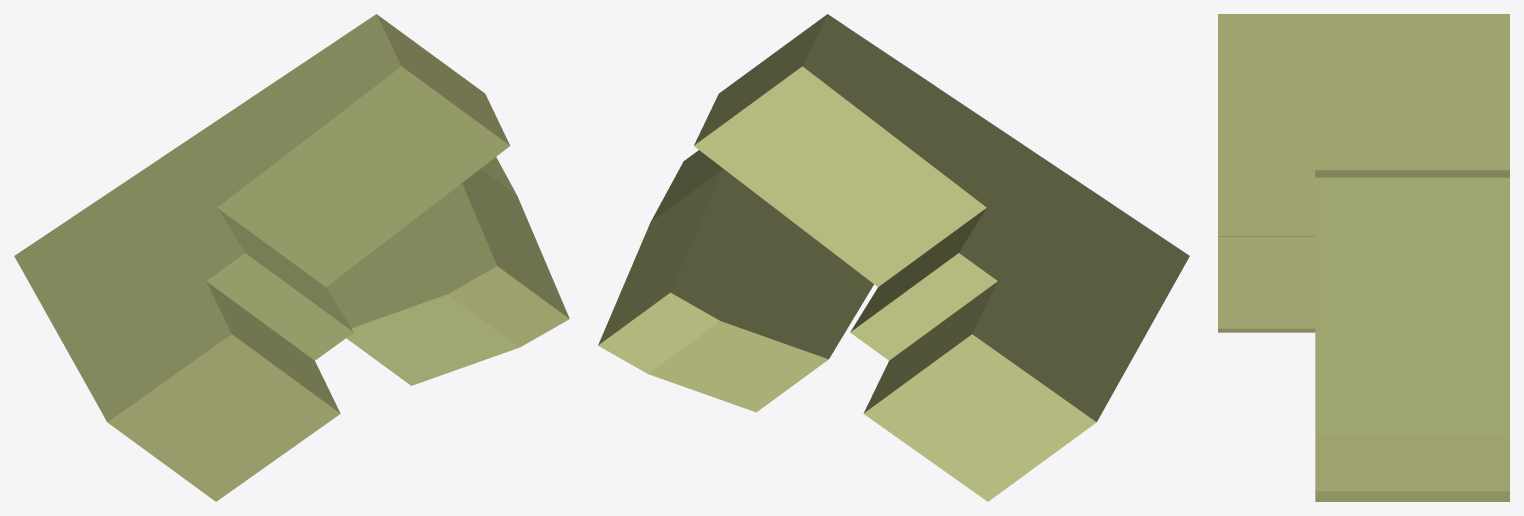
3 views of the same model, side by side, from view 1: azimuth 30°, elevation 25°; view 2: azimuth 150°, elevation 25°; view 3: azimuth 270°, elevation 25° (orthographic). The views are drawn at different scales.
Parts seen in each view (by area): view 1: 0_1_0_0_1_0_3_0_3_3; view 2: 0_1_0_0_1_0_3_0_3_3; view 3: 0_1_0_0_1_0_3_0_3_3.
Part boxes in pixels (bbox=[...]): 0_1_0_0_1_0_3_0_3_3: bbox=[14, 14, 569, 501]; 0_1_0_0_1_0_3_0_3_3: bbox=[598, 14, 1189, 501]; 0_1_0_0_1_0_3_0_3_3: bbox=[1218, 14, 1509, 501].
Bounding box in the file's own units: 23.08 × 15.64 × 9.
